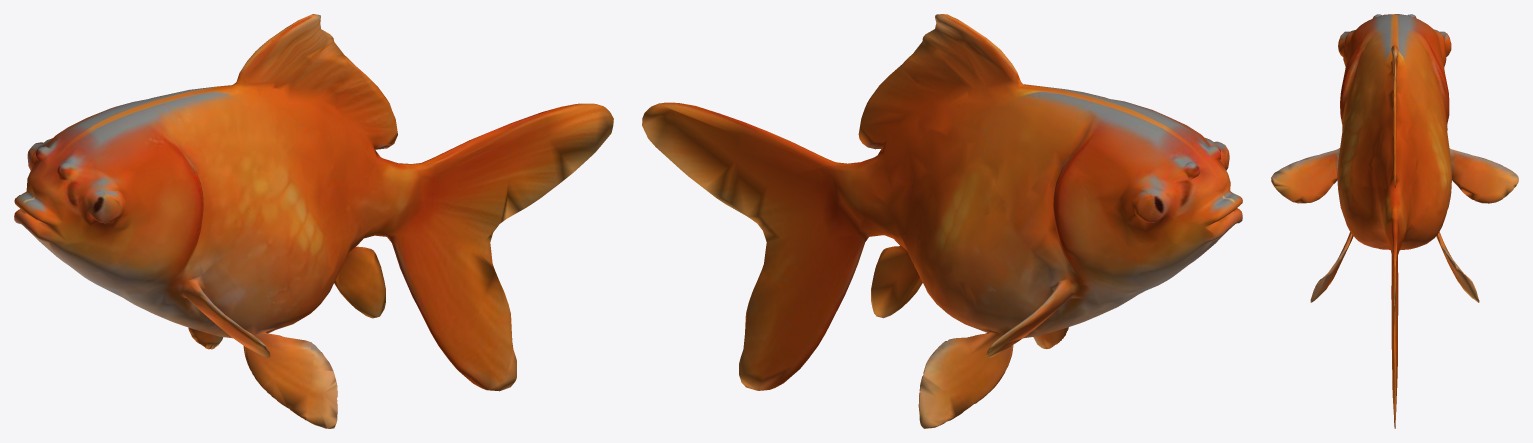
Rendered from demekin.glb.
3 views of the same model, side by side, from view 1: azimuth 30°, elevation 25°; view 2: azimuth 150°, elevation 25°; view 3: azimuth 270°, elevation 25° (orthographic). The views are drawn at different scales.
Parts seen in each view (by area): view 1: tripo_node_1a432c15-9d00-4f11-ae47-b636e2c4ccac; view 2: tripo_node_1a432c15-9d00-4f11-ae47-b636e2c4ccac; view 3: tripo_node_1a432c15-9d00-4f11-ae47-b636e2c4ccac.
Boxes of the visible parts, left/top/right/bottom form: tripo_node_1a432c15-9d00-4f11-ae47-b636e2c4ccac: left=14, top=14, right=613, bottom=428; tripo_node_1a432c15-9d00-4f11-ae47-b636e2c4ccac: left=642, top=14, right=1242, bottom=428; tripo_node_1a432c15-9d00-4f11-ae47-b636e2c4ccac: left=1271, top=14, right=1518, bottom=428.
Size of the model in its own units: 0.9996 by 0.6797 by 0.4931.
Materials: 1 (1 with a texture image).
